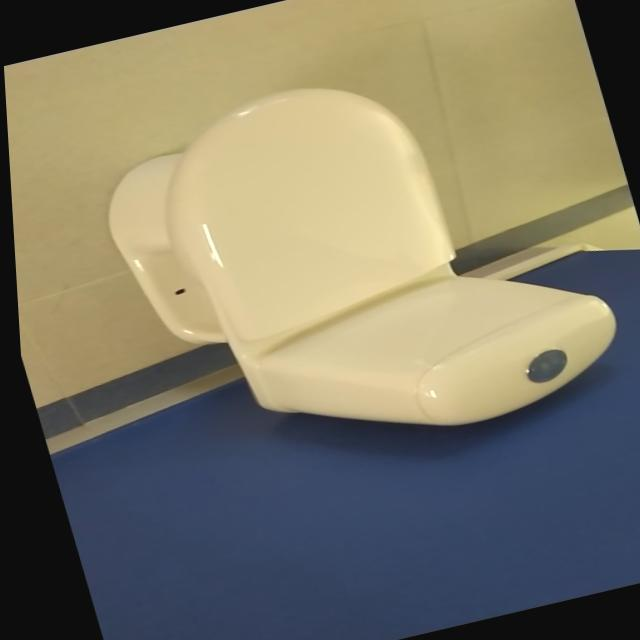toilet: (74, 32, 635, 492)
